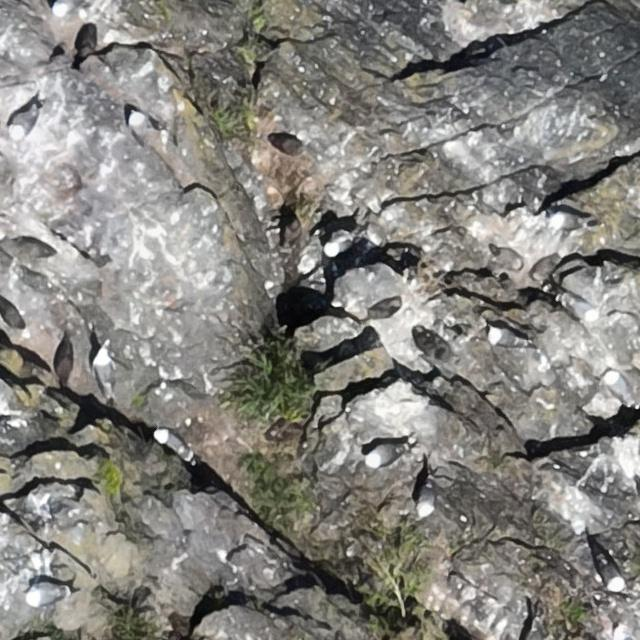umineko: (592, 539, 628, 592), (554, 287, 602, 324), (94, 346, 120, 399), (25, 582, 75, 608), (605, 370, 634, 410), (488, 326, 534, 351), (366, 443, 398, 466), (157, 431, 185, 454), (12, 109, 34, 134), (418, 486, 434, 517), (326, 234, 348, 254), (52, 0, 78, 15), (130, 115, 148, 136)
